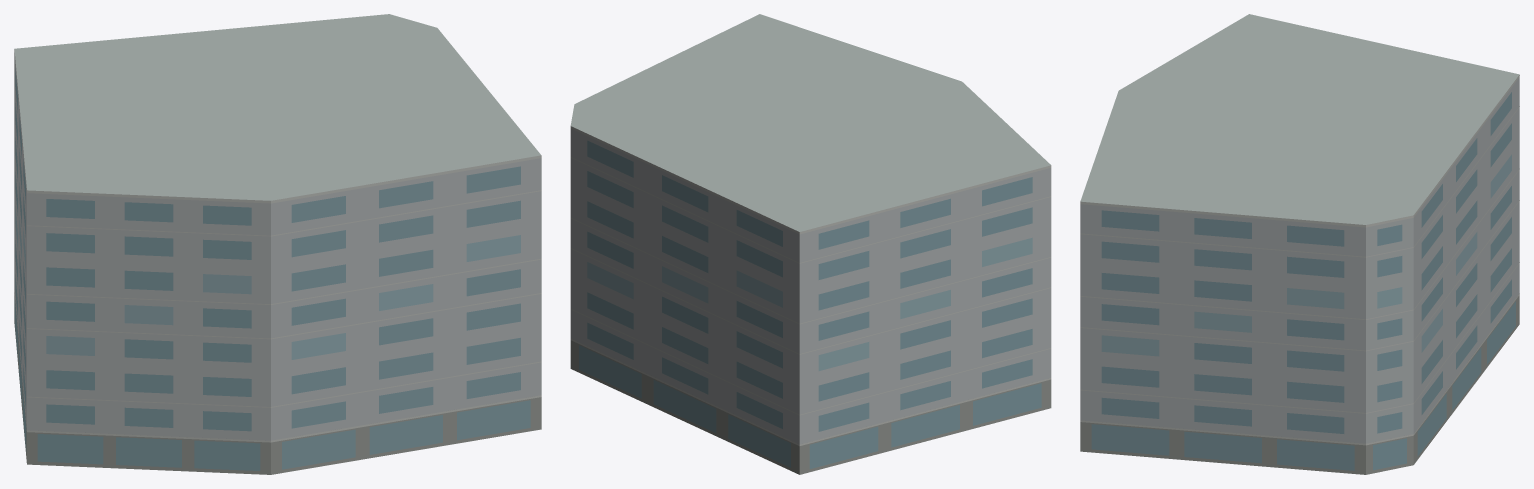
The model's file is residential-5bcf2bb4-6eaa-441c-a386-0081a620d130.glb.
3 renders of one model, left to right at view 1: azimuth 30°, elevation 25°; view 2: azimuth 150°, elevation 25°; view 3: azimuth 270°, elevation 25°, orthographic. The views are drawn at different scales.
Parts seen in each view (by area): view 1: residential-5bcf2bb4-6eaa-441c-a386-0081a620d130.tmp; view 2: residential-5bcf2bb4-6eaa-441c-a386-0081a620d130.tmp; view 3: residential-5bcf2bb4-6eaa-441c-a386-0081a620d130.tmp.
Part boxes in pixels (x1,y1,x2,y2): residential-5bcf2bb4-6eaa-441c-a386-0081a620d130.tmp: (14, 14, 541, 474); residential-5bcf2bb4-6eaa-441c-a386-0081a620d130.tmp: (570, 14, 1051, 474); residential-5bcf2bb4-6eaa-441c-a386-0081a620d130.tmp: (1080, 14, 1519, 474).
Bounding box in the file's own units: 44.22 × 24.4 × 38.91.
